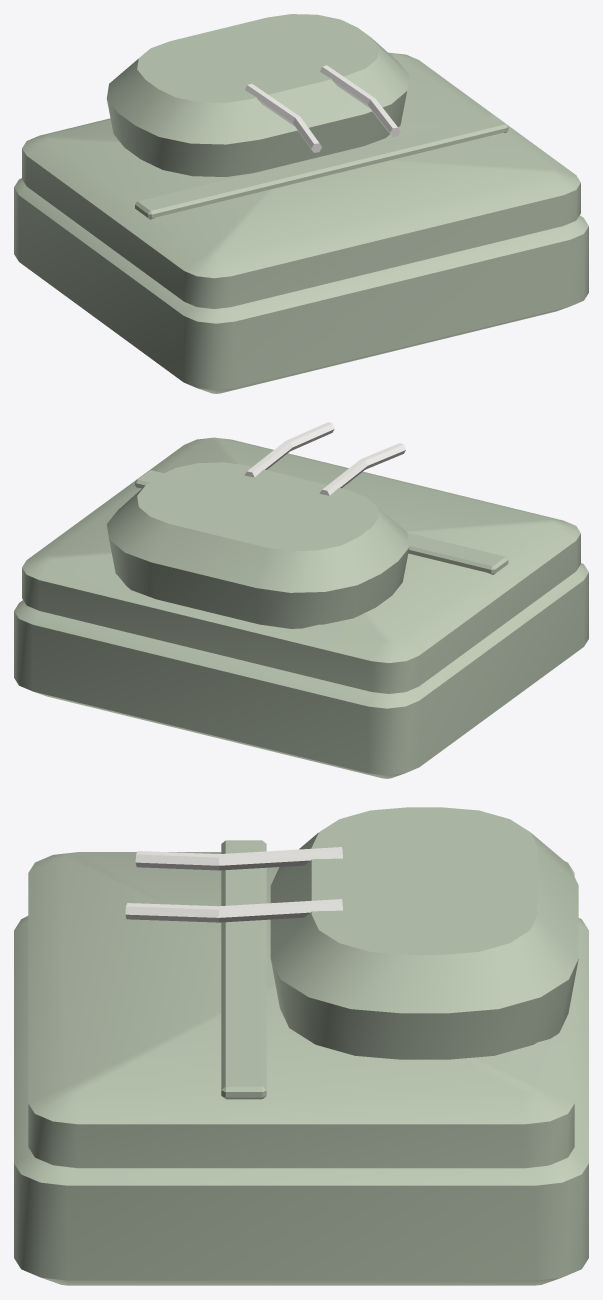
The model's file is SH-HOODIE-FOLD-001.glb.
The picture shows the model from 3 angles, top to bottom: view 1: azimuth 30°, elevation 25°; view 2: azimuth 150°, elevation 25°; view 3: azimuth 270°, elevation 25°; orthographic projection. The views are drawn at different scales.
Visible parts, largest first — view 1: hoodie-folded; view 2: hoodie-folded; view 3: hoodie-folded.
Part boxes in pixels (box(x1,y1,x2,y2)): hoodie-folded: box(14, 14, 588, 393); hoodie-folded: box(14, 422, 588, 778); hoodie-folded: box(14, 807, 588, 1285).
Bounding box in the file's own units: 0.32 × 0.1555 × 0.28.
